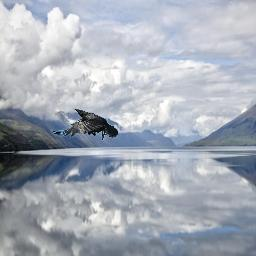Crow: (50, 108, 118, 141)
